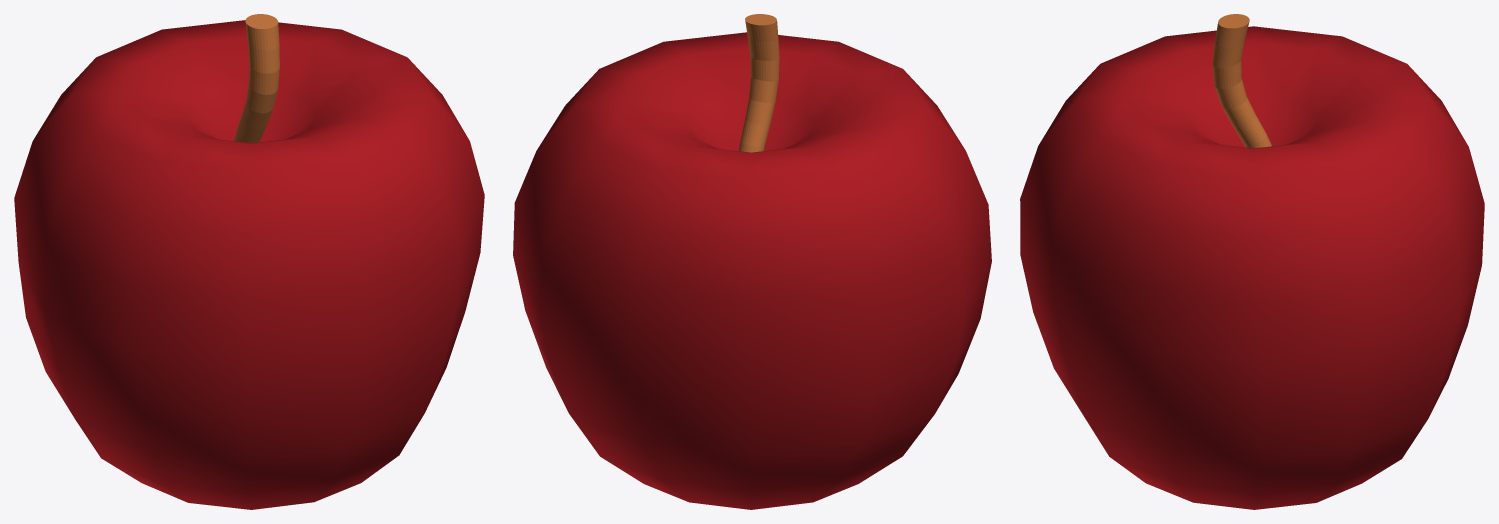
File: apple.fbx
The picture shows the model from 3 angles, left to right: view 1: azimuth 30°, elevation 25°; view 2: azimuth 150°, elevation 25°; view 3: azimuth 270°, elevation 25°; orthographic projection. The views are drawn at different scales.
Visible parts, largest first — view 1: apple; view 2: apple; view 3: apple.
Boxes of the visible parts, x1,y1,x2,y2 form: apple: (14, 14, 484, 509); apple: (513, 14, 991, 509); apple: (1020, 14, 1484, 509).
Size of the model in its own units: 101 by 107 by 96.85.
